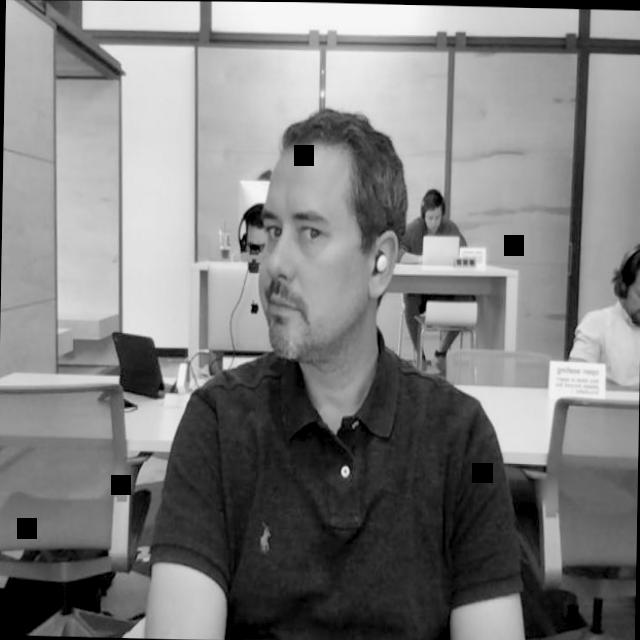NO-Mask: (255, 110, 409, 366), (615, 244, 640, 324), (420, 186, 444, 234)
